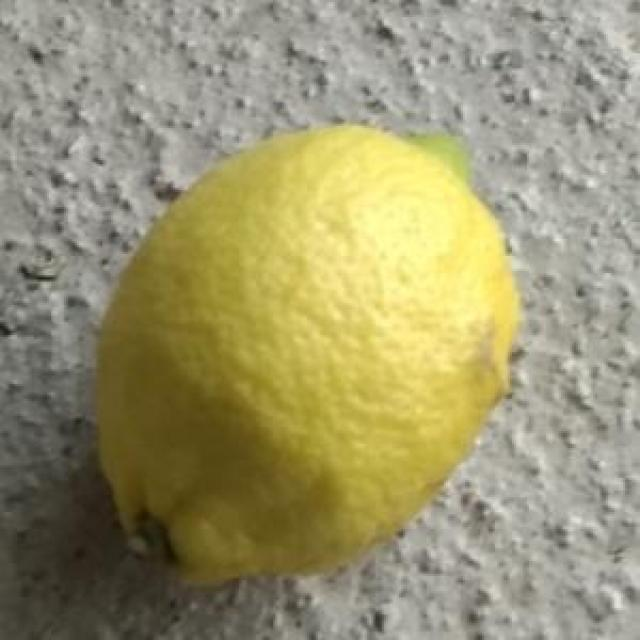lemon: (86, 126, 524, 590)
